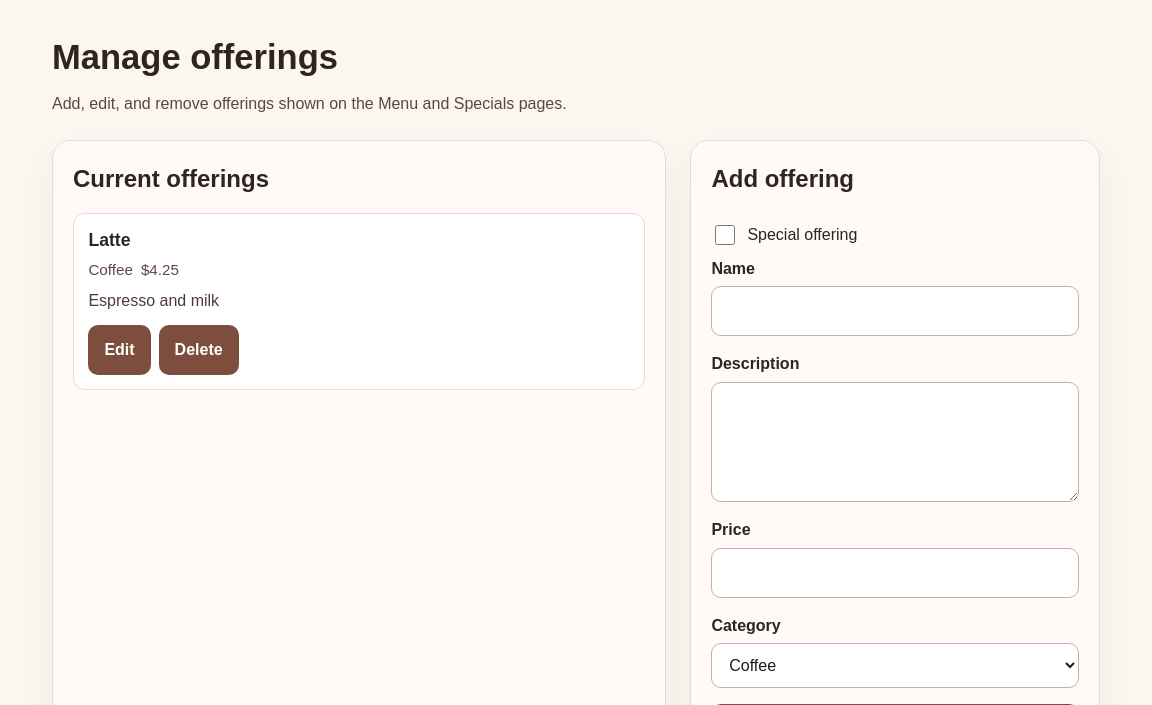
Test case: reports successful saving separately from a failed list reload
The image size is (1152, 705).
Expected: the button with aria-label "Edit Latte" is shown, [88, 325, 151, 375]
Type "Latte" into the field labelled "Name" at {"x": 895, "y": 311}, box [711, 286, 1079, 336]
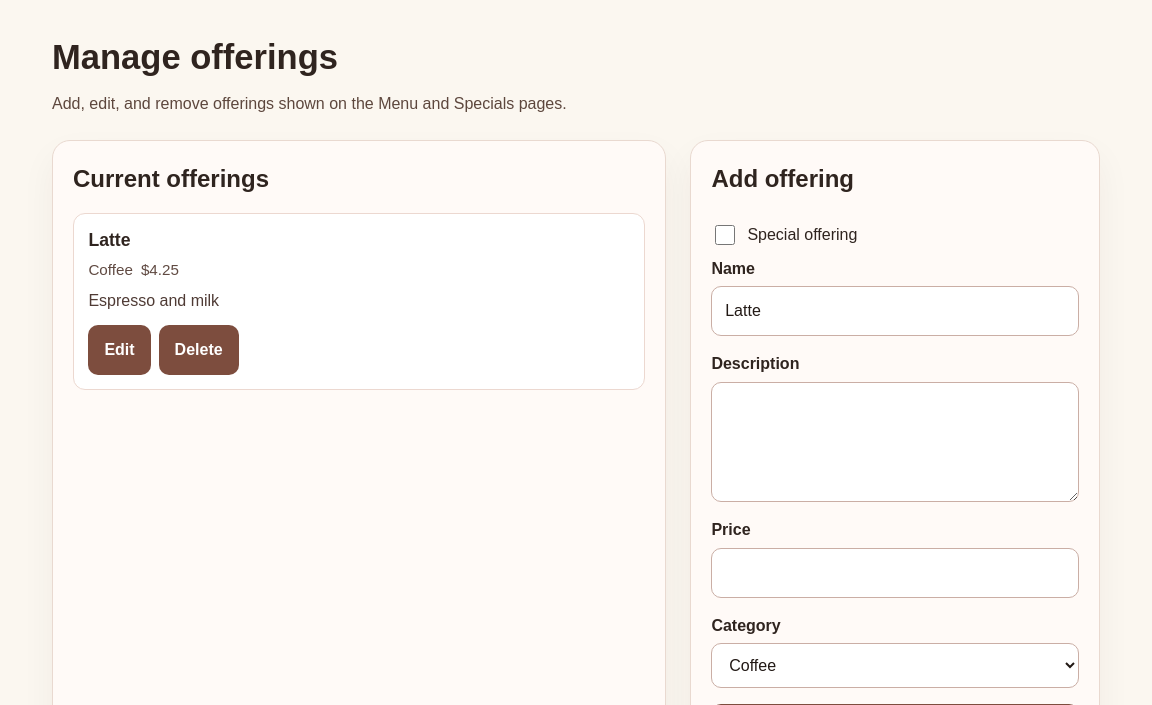
Type "Espresso and milk" into the text box labelled "Description" at {"x": 895, "y": 442}, box [711, 382, 1079, 502]
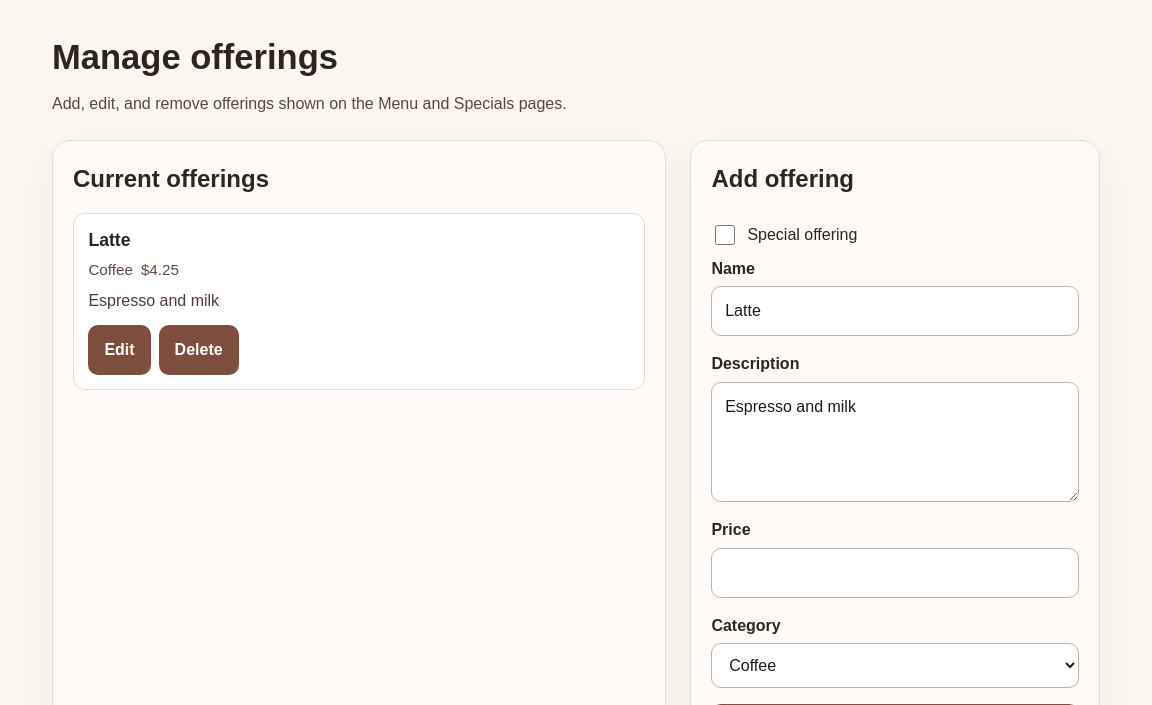
Type "4.25" into the number field labelled "Price" at {"x": 895, "y": 573}, box [711, 548, 1079, 598]
(page scrolled)
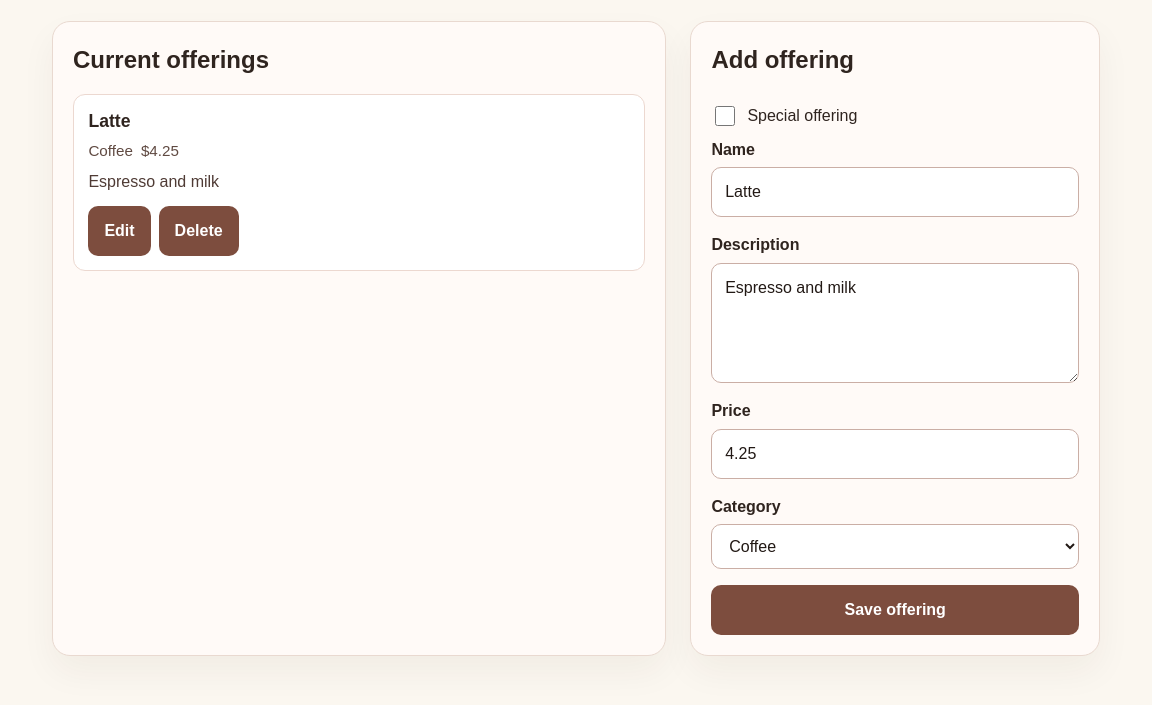
Click the button "Save offering" at {"x": 895, "y": 610}, box [711, 585, 1079, 635]
(page scrolled)
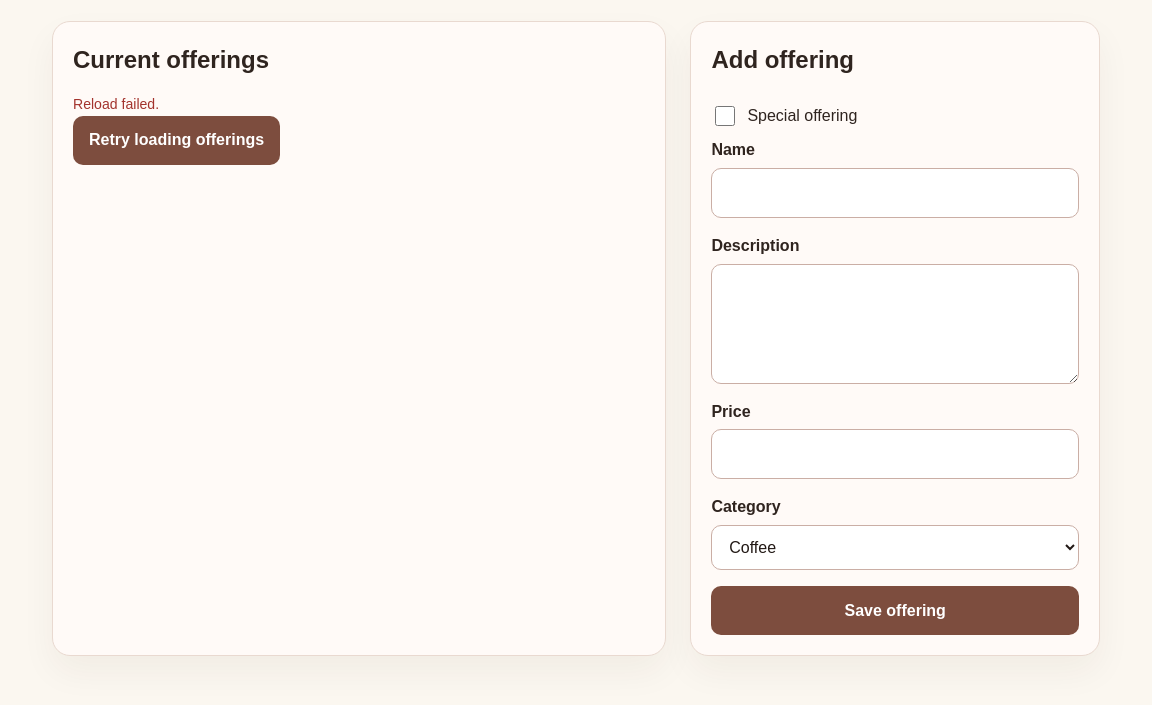
Now the field labelled "Name" is empty, box [711, 168, 1079, 218]
Now the button "Retry loading offerings" is shown, box [73, 116, 280, 165]
